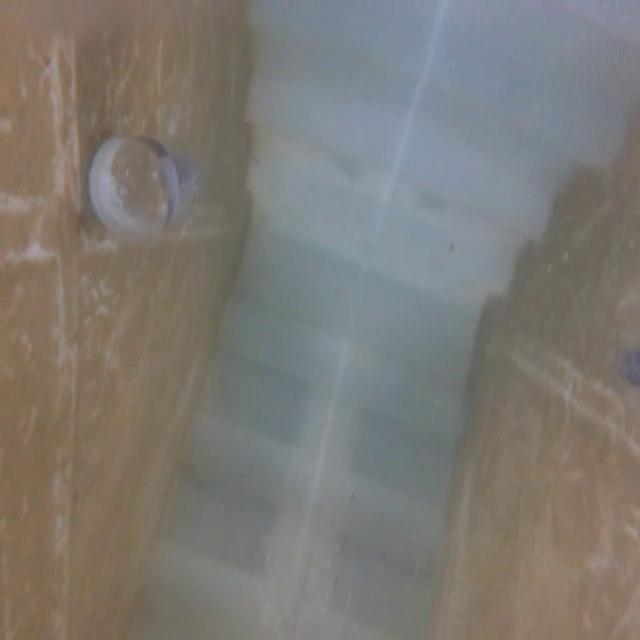plastic bottle: (66, 119, 211, 276)
